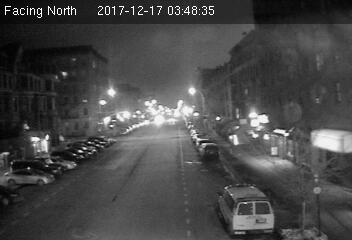police: (216, 180, 277, 234)
